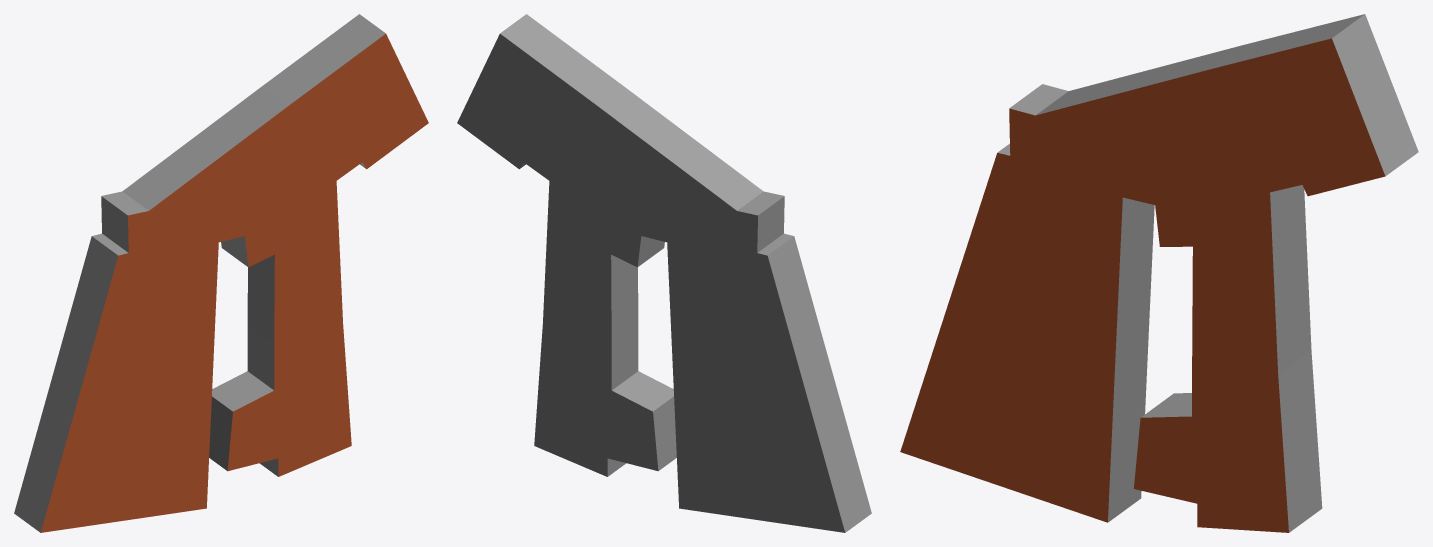
The model's file is construction_7085_assumed_A_Casa_h6m.obj.
The picture shows the model from 3 angles, left to right: view 1: azimuth 30°, elevation 25°; view 2: azimuth 150°, elevation 25°; view 3: azimuth 330°, elevation 25°; orthographic projection. The views are drawn at different scales.
Visible parts, largest first — view 1: construction_7085_assumed_A_Casa; view 2: construction_7085_assumed_A_Casa; view 3: construction_7085_assumed_A_Casa.
Boxes of the visible parts, left/top/right/bottom form: construction_7085_assumed_A_Casa: left=14, top=14, right=428, bottom=532; construction_7085_assumed_A_Casa: left=457, top=14, right=871, bottom=532; construction_7085_assumed_A_Casa: left=900, top=14, right=1418, bottom=532.
Bounding box in the file's own units: 50.46 × 53.57 × 6.
